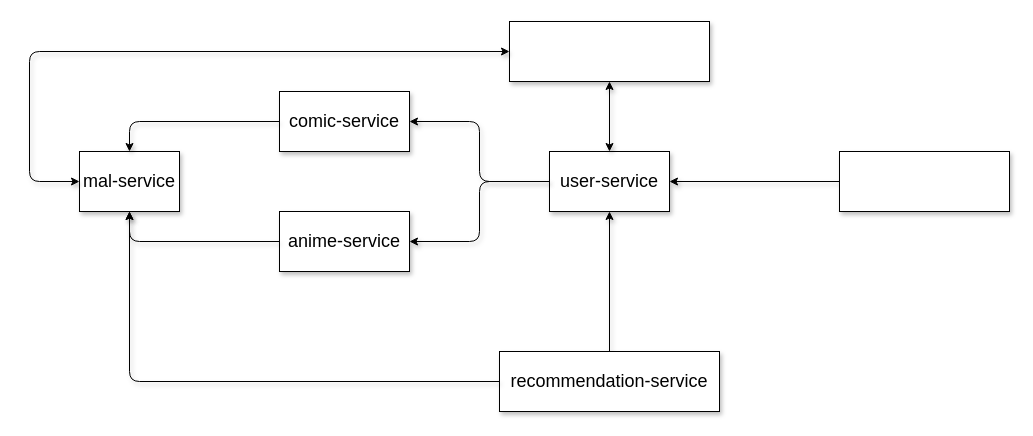
Image size: 1033x436. Some labels were removed from this diagram. Each missing label, with the centre of its shape:
authentication-service: the point at 610,52
notification-service: the point at 925,182
